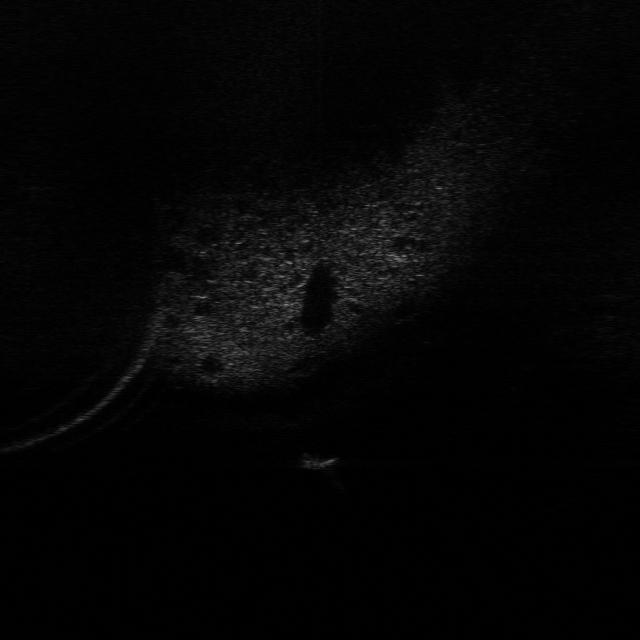cube: (261, 436, 308, 459)
